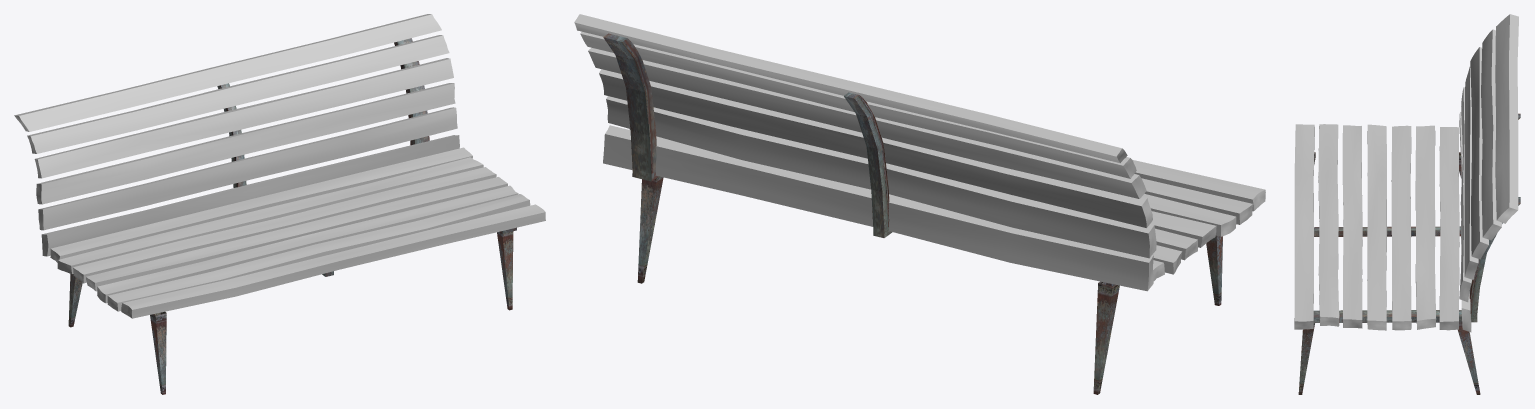
Rendered from skam.FBX.
3 views of the same model, side by side, from view 1: azimuth 30°, elevation 25°; view 2: azimuth 150°, elevation 25°; view 3: azimuth 270°, elevation 25° (orthographic). The views are drawn at different scales.
Parts seen in each view (by area): view 1: Box001; view 2: Box001; view 3: Box001.
Part boxes in pixels (x1,y1,x2,y2): Box001: (14, 14, 545, 394); Box001: (574, 14, 1265, 394); Box001: (1294, 14, 1520, 394).
Bounding box in the file's own units: 144 × 68.57 × 69.83.
